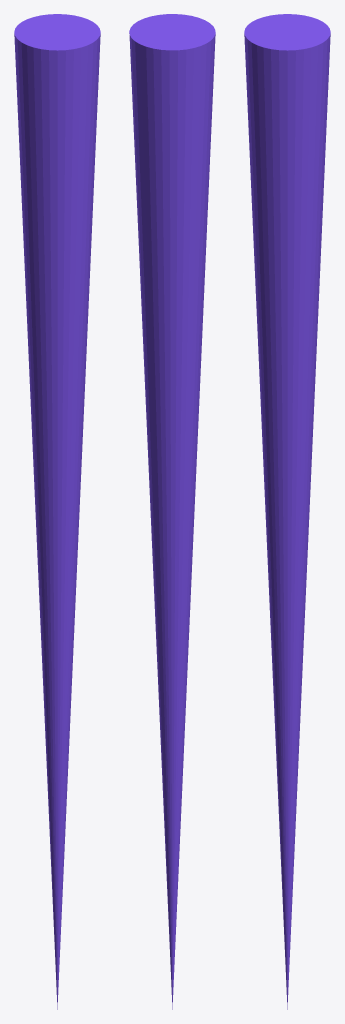
The model's file is Vector.fbx.
3 views of the same model, side by side, from view 1: azimuth 90°, elevation 25°; view 2: azimuth 210°, elevation 25°; view 3: azimuth 270°, elevation 25° (orthographic).
Visible parts, largest first — view 1: Cone; view 2: Cone; view 3: Cone.
Part boxes in pixels (bbox=[...]): Cone: bbox=[14, 14, 100, 1009]; Cone: bbox=[129, 14, 215, 1009]; Cone: bbox=[244, 14, 330, 1009].
Size of the model in its own units: 32.32 by 403 by 32.32.
